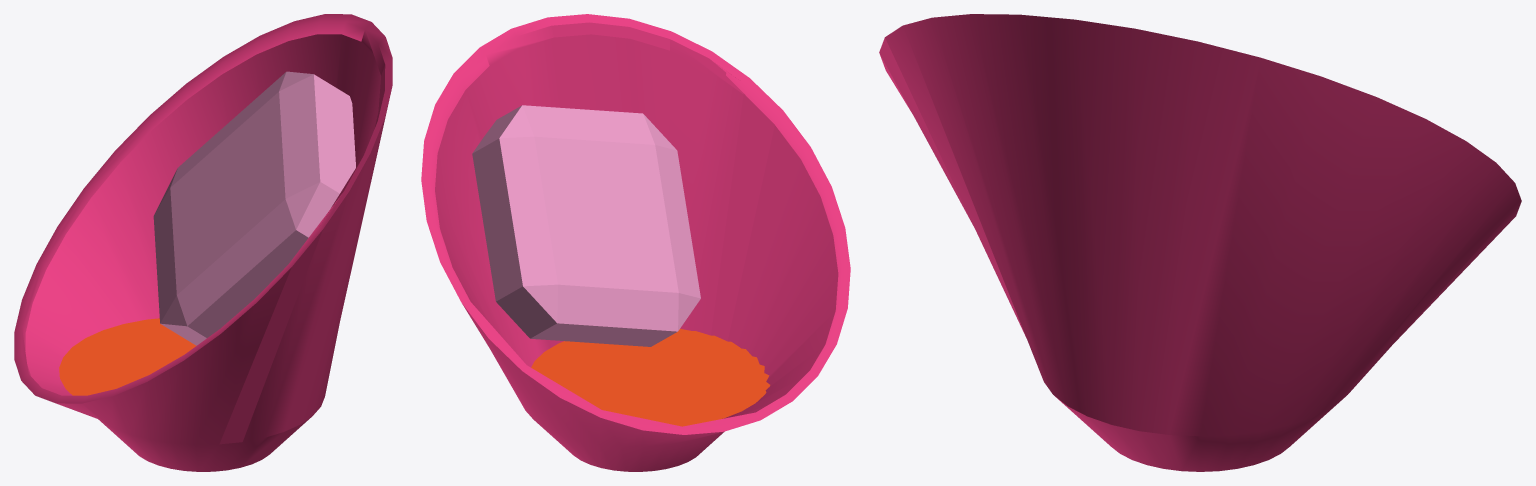
File: chair.fbx
The picture shows the model from 3 angles, left to right: view 1: azimuth 30°, elevation 25°; view 2: azimuth 150°, elevation 25°; view 3: azimuth 270°, elevation 25°; orthographic projection. The views are drawn at different scales.
Visible parts, largest first — view 1: Cylinder, Cube, Circle; view 2: Cylinder, Cube, Circle; view 3: Cylinder.
Boxes of the visible parts, x1=… form: Cylinder: x1=14, y1=14, x2=392, y2=471; Cube: x1=153, y1=71, x2=355, y2=345; Circle: x1=59, y1=318, x2=196, y2=395; Cylinder: x1=421, y1=14, x2=850, y2=471; Cube: x1=472, y1=105, x2=700, y2=346; Circle: x1=531, y1=328, x2=770, y2=426; Cylinder: x1=879, y1=14, x2=1521, y2=471.
Bounding box in the file's own units: 324 × 348 × 403.
